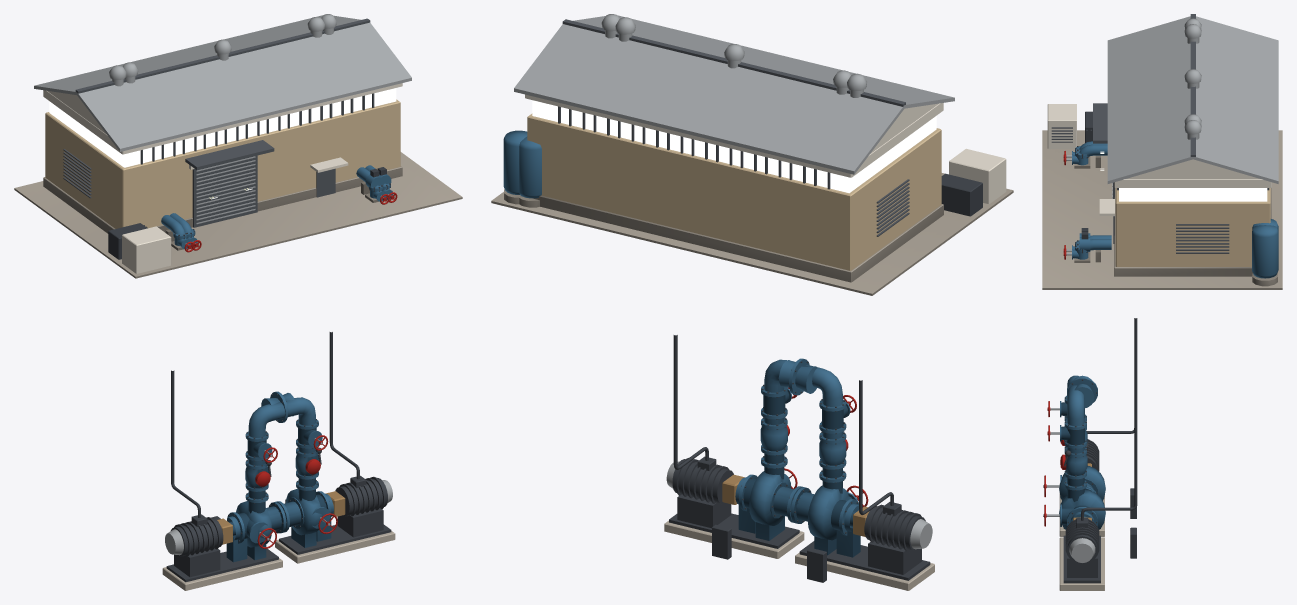
File: pump-station.glb
3 renders of one model, left to right at view 1: azimuth 30°, elevation 25°; view 2: azimuth 150°, elevation 25°; view 3: azimuth 270°, elevation 25°, orthographic. The views are drawn at different scales.
Parts seen in each view (by area): view 1: pump-station_v0, pump-station_v1, pump_cutaway_v1, pump_cutaway; view 2: pump-station_v0, pump-station_v1, pump_cutaway_v1, pump_cutaway; view 3: pump-station_v1, pump-station_v0, pump_cutaway, pump_cutaway_v1.
Part boxes in pixels (<box>): pump-station_v0: <box>26,17,450,275</box>; pump-station_v1: <box>14,14,462,278</box>; pump_cutaway_v1: <box>162,370,337,590</box>; pump_cutaway: <box>227,332,395,563</box>; pump-station_v0: <box>504,17,978,292</box>; pump-station_v1: <box>491,14,1013,295</box>; pump_cutaway_v1: <box>735,360,934,590</box>; pump_cutaway: <box>664,335,868,559</box>; pump-station_v1: <box>1042,14,1282,289</box>; pump-station_v0: <box>1042,24,1282,273</box>; pump_cutaway: <box>1043,375,1137,590</box>; pump_cutaway_v1: <box>1043,318,1137,536</box>.
Size of the model in its own units: 28 by 38.9 by 18.
